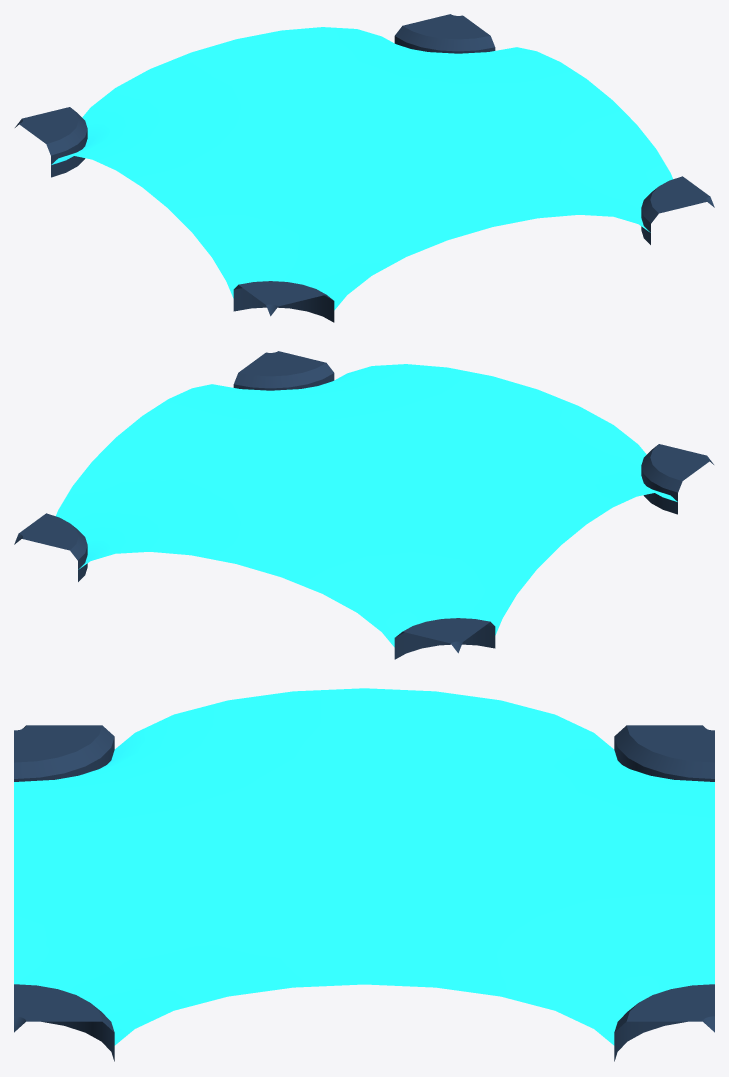
Rendered from Light_Trim_01_RoundShortCrossX.glb.
3 renders of one model, top to bottom at view 1: azimuth 30°, elevation 25°; view 2: azimuth 150°, elevation 25°; view 3: azimuth 270°, elevation 25°, orthographic. The views are drawn at different scales.
Parts seen in each view (by area): view 1: Light_Trim_01_RoundShortCrossX.001; view 2: Light_Trim_01_RoundShortCrossX.001; view 3: Light_Trim_01_RoundShortCrossX.001.
Boxes of the visible parts, box(x1,y1,x2,y2) form: Light_Trim_01_RoundShortCrossX.001: box(15, 14, 714, 322); Light_Trim_01_RoundShortCrossX.001: box(14, 351, 713, 659); Light_Trim_01_RoundShortCrossX.001: box(14, 688, 714, 1061).
Size of the model in its own units: 0.1 by 0.0123 by 0.1.
